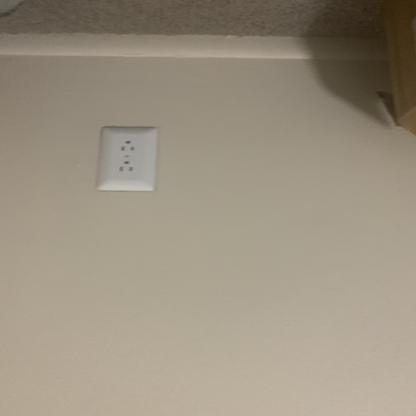OUTLET: (94, 127, 159, 190)
